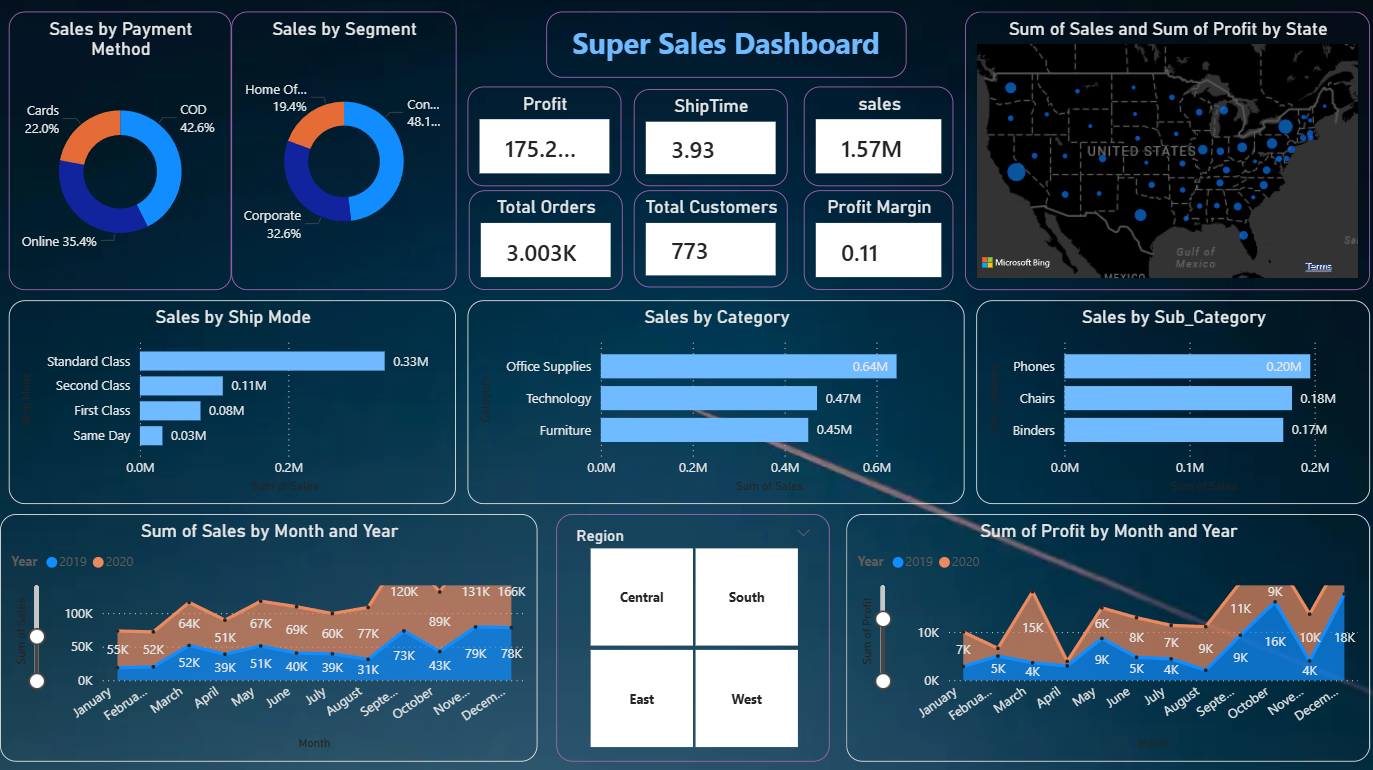

This screenshot's page, from the dashboard's own definition file:
{"tool":"powerbi","page":{"name":"Page 1","canvas":[1280,720],"ordinal":0},"visuals":[{"type":"clusteredBarChart","title":"Sales by Category","fields":{"Category":["Sheet1.Category"],"Y":["Sum(Sheet1.Sales)"]},"box":[434.9,280.2,462.8,189.5],"z":0},{"type":"clusteredBarChart","title":"Sales by Sub_Category","fields":{"Y":["Sum(Sheet1.Sales)"],"Category":["Sheet1.Sub-Category"]},"box":[908.1,280.2,366.3,189.5],"z":1000},{"type":"clusteredBarChart","title":"Sales by Ship Mode","fields":{"Y":["Sum(Sheet1.Sales)"],"Category":["Sheet1.Ship Mode"]},"box":[8.1,280.2,416.3,189.5],"z":2000},{"type":"stackedAreaChart","fields":{"Y":["Sum(Sheet1.Sales)"],"Series":["Sheet1.Order Date.Variation.Date Hierarchy.Year"],"Category":["Sheet1.Order Date.Variation.Date Hierarchy.Month"]},"box":[0,479.1,500,230.2],"z":3000},{"type":"stackedAreaChart","fields":{"Series":["Sheet1.Order Date.Variation.Date Hierarchy.Year"],"Category":["Sheet1.Order Date.Variation.Date Hierarchy.Month"],"Y":["Sum(Sheet1.Profit)"]},"box":[787.2,479.1,487.2,230.2],"z":4000},{"type":"map","fields":{"Category":["Sheet1.State"],"Size":["Sum(Sheet1.Sales)"]},"box":[897.7,11.6,376.7,259.3],"z":5000},{"type":"donutChart","title":"Sales by Segment","fields":{"Category":["Sheet1.Segment"],"Y":["Sum(Sheet1.Sales)"]},"box":[215.1,11.6,209.3,259.3],"z":6000},{"type":"donutChart","title":"Sales by Payment Method","fields":{"Category":["Sheet1.Payment Mode"],"Y":["Sum(Sheet1.Sales)"]},"box":[8.1,11.6,207,259.3],"z":7000},{"type":"slicer","fields":{"Values":["Sheet1.Region"]},"box":[517.4,479.1,254.7,230.2],"z":8000},{"type":"textbox","box":[508.1,11.6,334.9,61.6],"z":9000},{"type":"cardVisual","title":"sales","fields":{"Data":["Sum(Sheet1.Sales)"]},"box":[747.7,81.4,139.5,93],"z":10000},{"type":"cardVisual","title":"Profit","fields":{"Data":["Sum(Sheet1.Profit)"]},"box":[434.9,81.4,143,93],"z":11000},{"type":"cardVisual","title":"ShipTime","fields":{"Data":["Avg(Sheet1.AvgDelivery)"]},"box":[589.5,83.7,143,90.7],"z":12000},{"type":"cardVisual","title":"Total Orders","fields":{"Data":["Count(Sheet1.Order ID)"]},"box":[436,177.9,143,93],"z":12001},{"type":"cardVisual","title":"Total Customers","fields":{"Data":["Count(Sheet1.Customer ID)"]},"box":[589.5,177.9,143,90.7],"z":12002},{"type":"cardVisual","title":"Profit Margin","fields":{"Data":["Sheet1.Profit Margin"]},"box":[747.7,177.9,139.5,93],"z":12003}]}

Visuals, with their boxes in screenshot pixels (x1, y1, x2, y2), scaled from the page's 1280x720 canvas onto the 1373x770 screenshot:
"Sales by Category" clusteredBarChart: x1=466, y1=300, x2=963, y2=502
"Sales by Sub_Category" clusteredBarChart: x1=974, y1=300, x2=1367, y2=502
"Sales by Ship Mode" clusteredBarChart: x1=9, y1=300, x2=455, y2=502
stackedAreaChart - Sum(Sheet1.Sales) x Sheet1.Order Date.Variation.Date Hierarchy.Year: x1=0, y1=512, x2=536, y2=759
stackedAreaChart - Sheet1.Order Date.Variation.Date Hierarchy.Year x Sheet1.Order Date.Variation.Date Hierarchy.Month: x1=844, y1=512, x2=1367, y2=759
map - Sheet1.State x Sum(Sheet1.Sales): x1=963, y1=12, x2=1367, y2=290
"Sales by Segment" donutChart: x1=231, y1=12, x2=455, y2=290
"Sales by Payment Method" donutChart: x1=9, y1=12, x2=231, y2=290
slicer - Sheet1.Region: x1=555, y1=512, x2=828, y2=759
textbox: x1=545, y1=12, x2=904, y2=78
"sales" cardVisual: x1=802, y1=87, x2=952, y2=187
"Profit" cardVisual: x1=466, y1=87, x2=620, y2=187
"ShipTime" cardVisual: x1=632, y1=90, x2=786, y2=187
"Total Orders" cardVisual: x1=468, y1=190, x2=621, y2=290
"Total Customers" cardVisual: x1=632, y1=190, x2=786, y2=287
"Profit Margin" cardVisual: x1=802, y1=190, x2=952, y2=290
